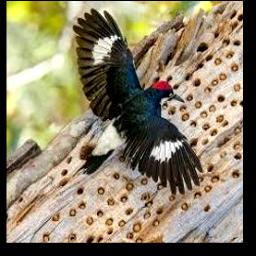Woodpecker: (73, 9, 203, 195)
